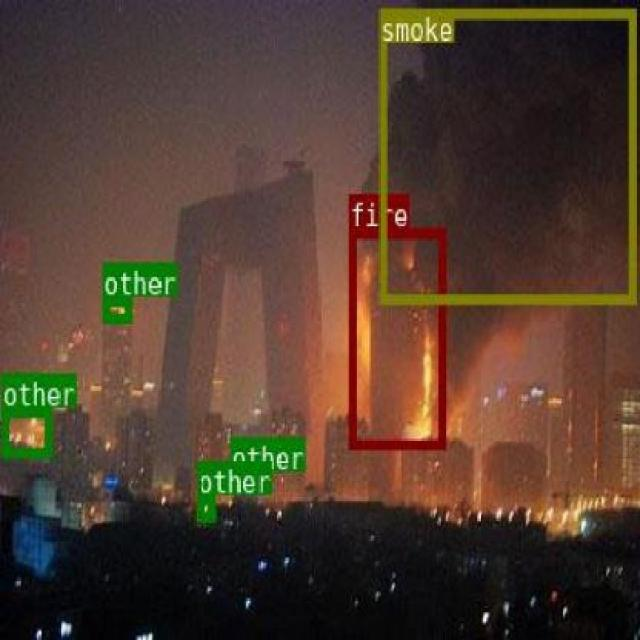fire: (348, 228, 444, 448)
smoke: (378, 6, 636, 302)
